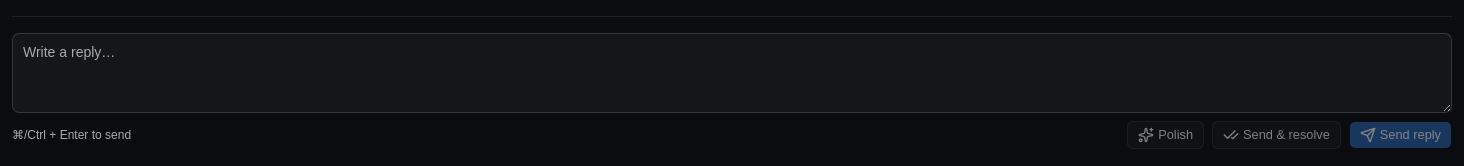
Scenario: TicketReplyComposer polish — when it can run › holds Polish until there is something to polish
The width and height of the screenshot is (1464, 166).
Expected: the button "Polish" is disabled, [1127,121,1204,149]
In the text box labelled "reply": (732, 73) [12,33,1452,113], type "shipped fri, ur parcel is on the way"
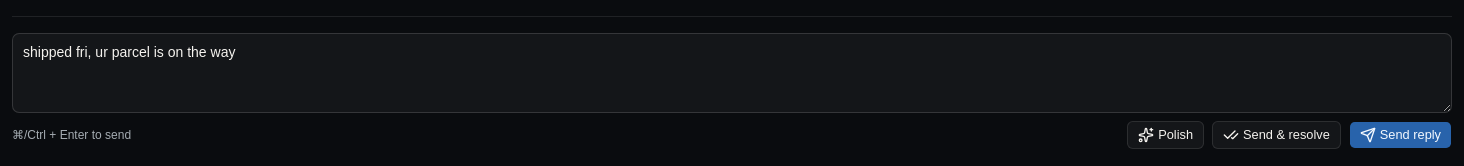
Now the button "Polish" is enabled, box [1127,121,1204,149]
